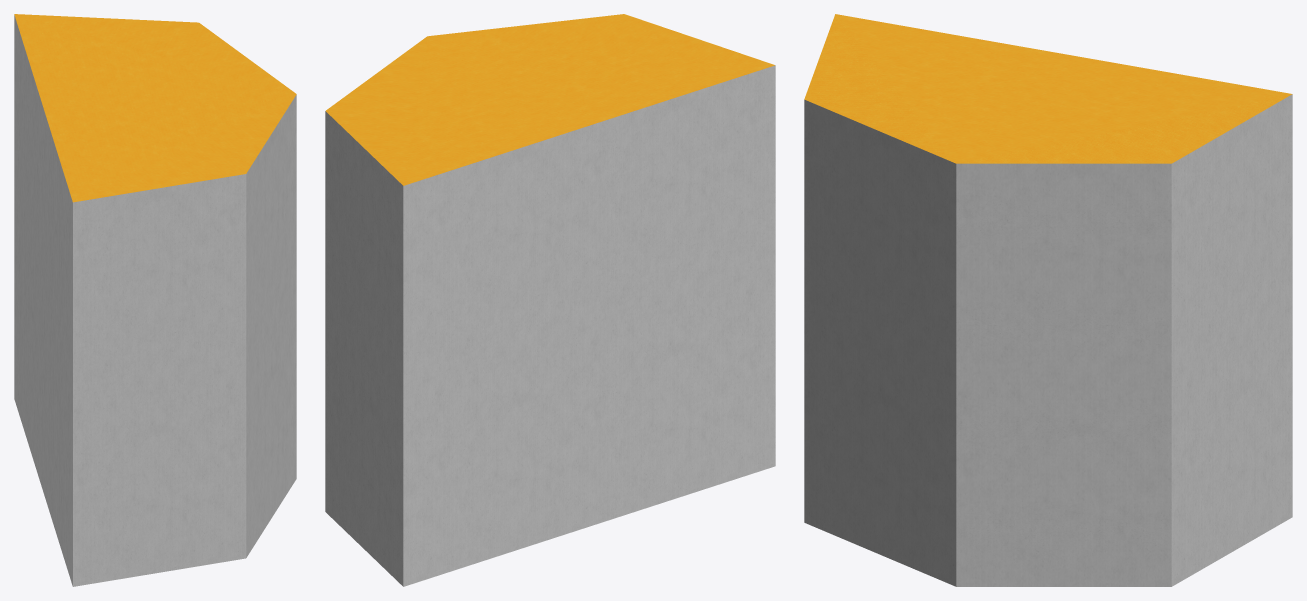
Rendered from Table.fbx.
The picture shows the model from 3 angles, left to right: view 1: azimuth 30°, elevation 25°; view 2: azimuth 150°, elevation 25°; view 3: azimuth 270°, elevation 25°; orthographic projection. The views are drawn at different scales.
Visible parts, largest first — view 1: Table; view 2: Table; view 3: Table.
Boxes of the visible parts, x1,y1,x2,y2 form: Table: (14, 14, 296, 586); Table: (325, 14, 775, 586); Table: (804, 14, 1292, 586).
Bounding box in the file's own units: 50.29 × 66.25 × 69.3.
